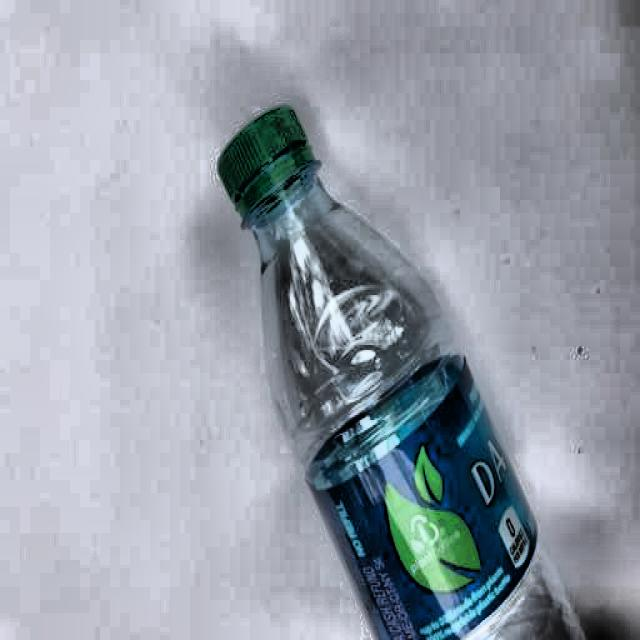plastic: (212, 99, 582, 640)
